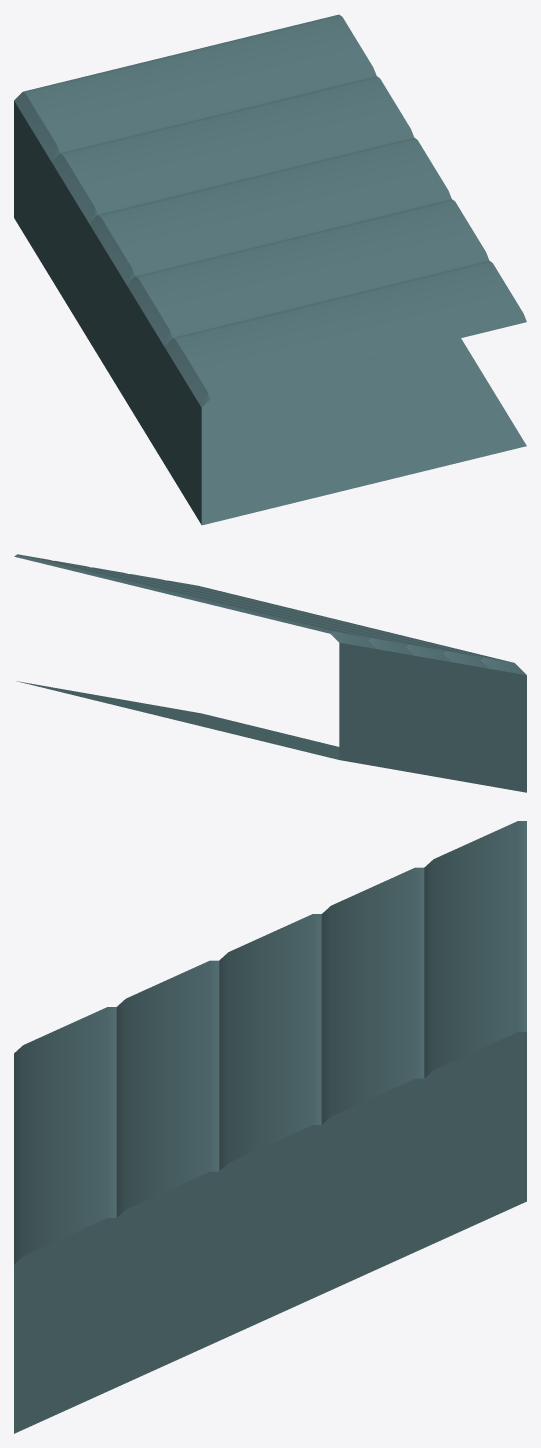
Rendered from CA_142_cosmodrome_floor_slope_left_end.glb.
3 views of the same model, one above another, from view 1: azimuth 30°, elevation 25°; view 2: azimuth 150°, elevation 25°; view 3: azimuth 270°, elevation 25° (orthographic). The views are drawn at different scales.
Visible parts, largest first — view 1: slope; view 2: slope; view 3: slope.
Boxes of the visible parts, x1,y1,x2,y2 form: slope: [14, 14, 526, 525]; slope: [14, 554, 526, 792]; slope: [14, 821, 526, 1433].
Bounding box in the file's own units: 0.75 × 0.6483 × 0.75.
